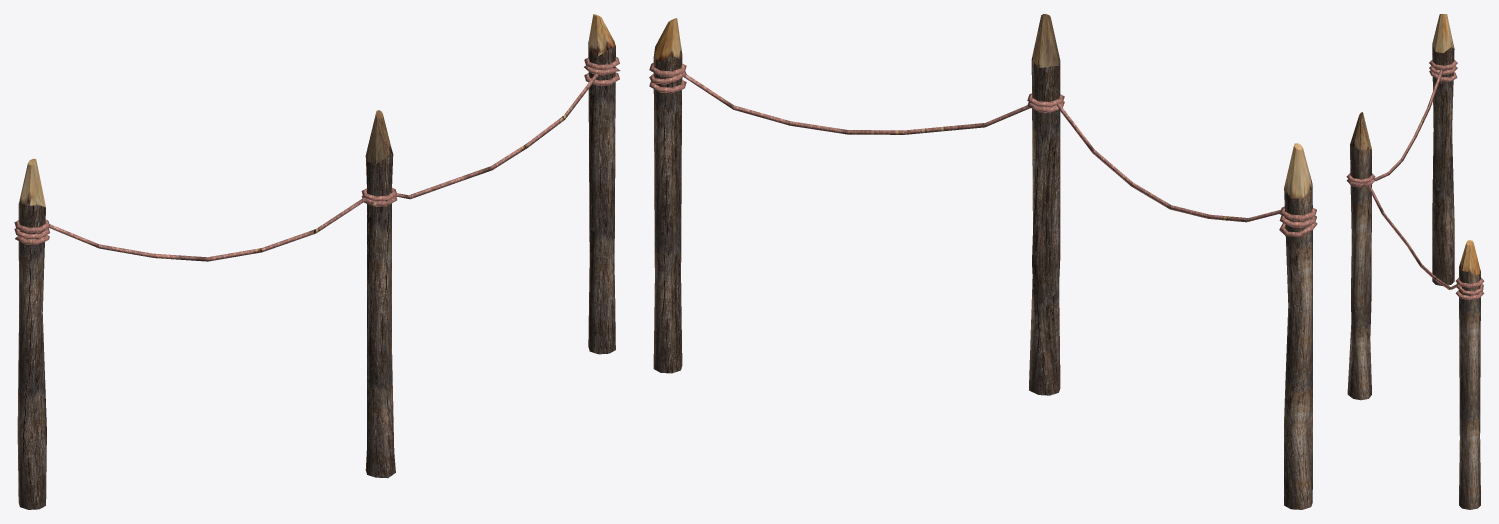
Rendered from pole_lines1.FBX.
3 renders of one model, left to right at view 1: azimuth 30°, elevation 25°; view 2: azimuth 150°, elevation 25°; view 3: azimuth 270°, elevation 25°, orthographic. The views are drawn at different scales.
Visible parts, largest first — view 1: Pole_lines1; view 2: Pole_lines1; view 3: Pole_lines1.
Boxes of the visible parts, left/top/right/bottom form: Pole_lines1: left=14, top=14, right=620, bottom=509; Pole_lines1: left=649, top=14, right=1317, bottom=509; Pole_lines1: left=1346, top=14, right=1484, bottom=509.
Size of the model in its own units: 80.4 by 44.77 by 19.88.
Materials: 3 (3 with a texture image).
